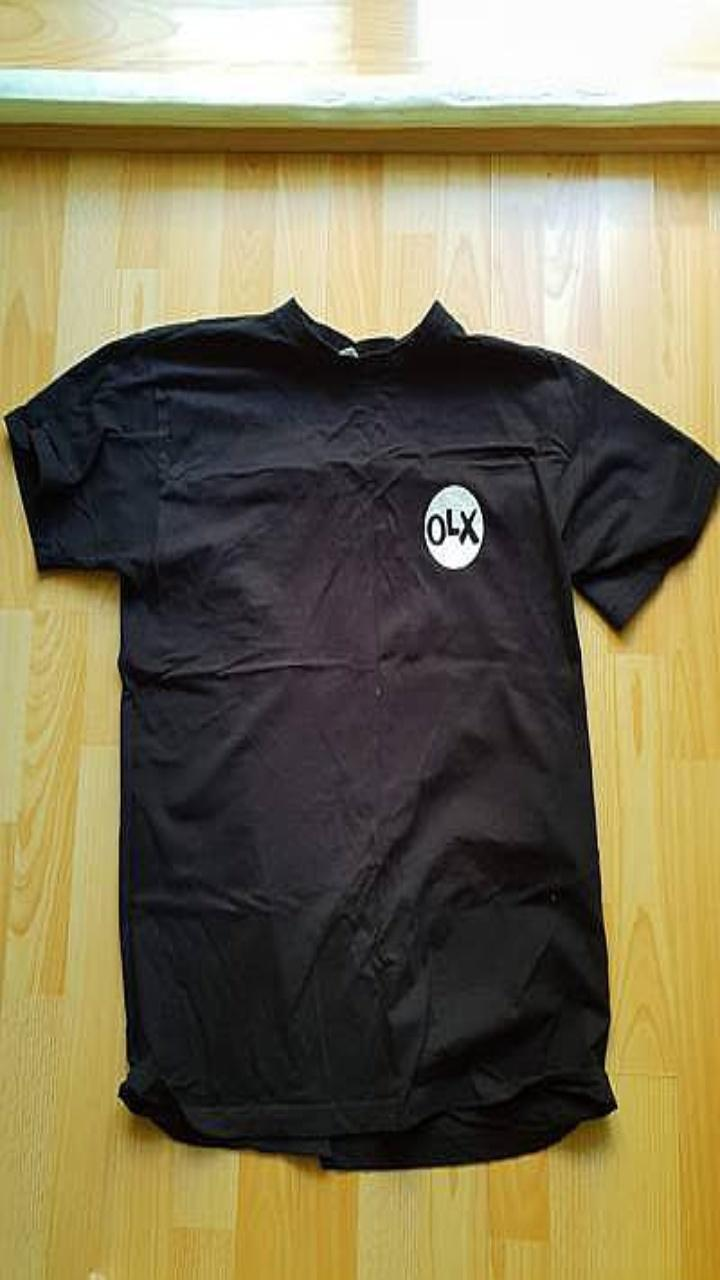T-Shirt: (4, 297, 719, 1168)
